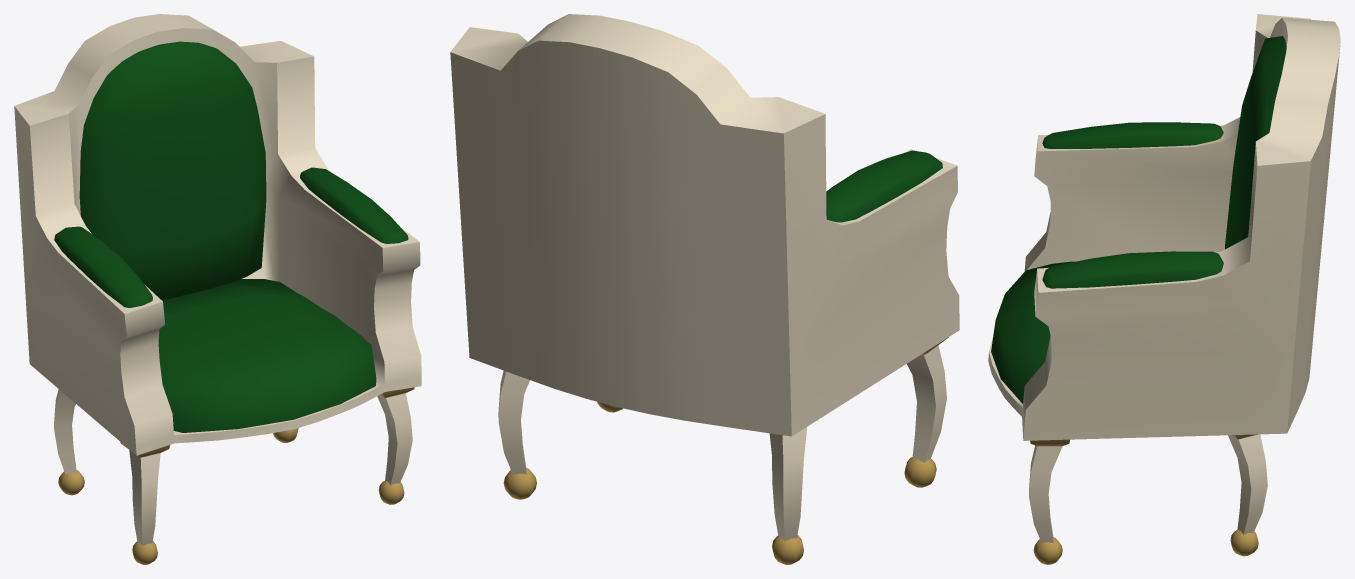
Rendered from BallroomChairUV.fbx.
The picture shows the model from 3 angles, left to right: view 1: azimuth 30°, elevation 25°; view 2: azimuth 150°, elevation 25°; view 3: azimuth 270°, elevation 25°; orthographic projection. The views are drawn at different scales.
Visible parts, largest first — view 1: Chair:Mesh; view 2: Chair:Mesh; view 3: Chair:Mesh.
Boxes of the visible parts, left/top/right/bottom form: Chair:Mesh: left=14, top=14, right=421, bottom=564; Chair:Mesh: left=450, top=14, right=959, bottom=564; Chair:Mesh: left=988, top=14, right=1340, bottom=564.
Bounding box in the file's own units: 145 × 198 × 137.
